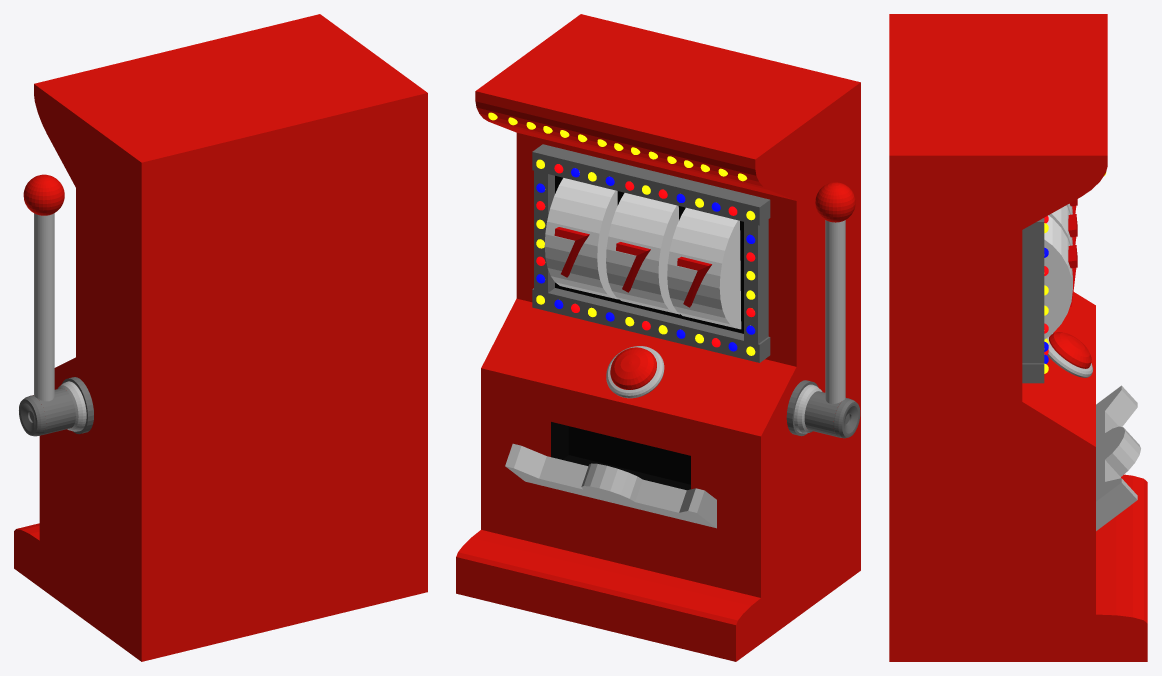
The model's file is slotmachine.fbx.
The picture shows the model from 3 angles, left to right: view 1: azimuth 30°, elevation 25°; view 2: azimuth 150°, elevation 25°; view 3: azimuth 270°, elevation 25°; orthographic projection. The views are drawn at different scales.
Visible parts, largest first — view 1: Cube.002; view 2: Cube.002; view 3: Cube.002.
Boxes of the visible parts, left/top/right/bottom form: Cube.002: left=14, top=14, right=427, bottom=661; Cube.002: left=456, top=14, right=860, bottom=661; Cube.002: left=889, top=14, right=1147, bottom=661.
Bounding box in the file's own units: 1900 × 2667 × 1235.
